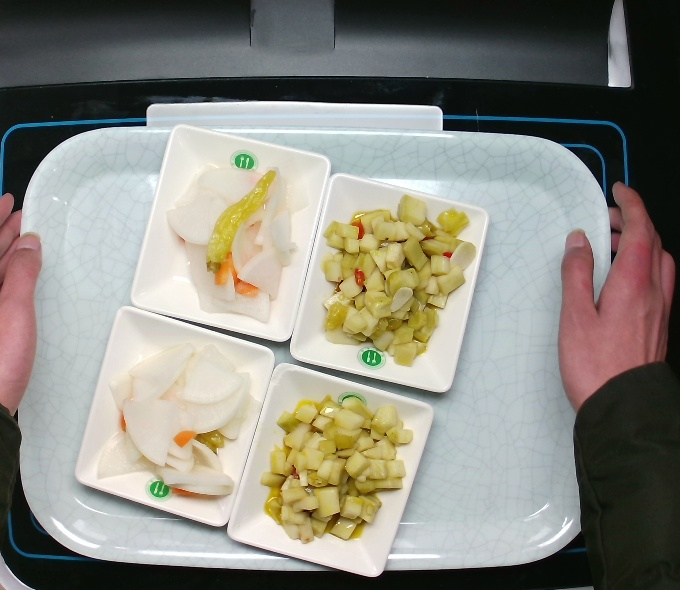wcq-LuLuoBo: (99, 339, 255, 500), (163, 156, 308, 326)
wcq-TangCuOu: (313, 192, 478, 365), (254, 385, 414, 549)
